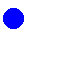circle: (3, 8, 23, 28)
